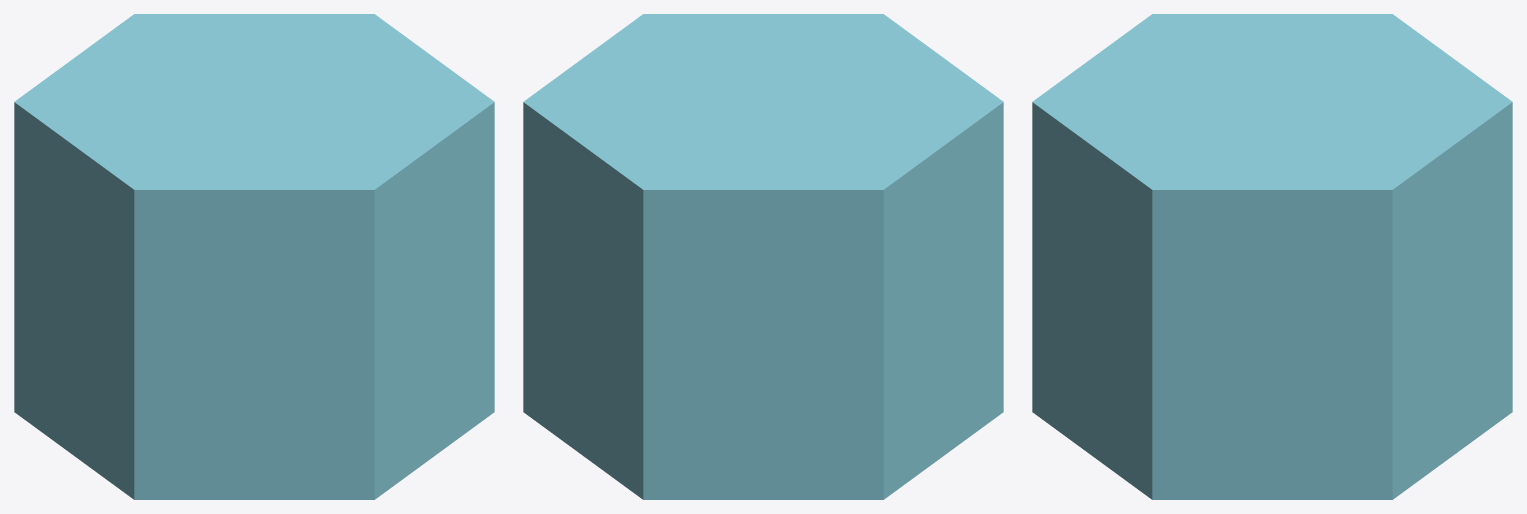
File: Hex_tall.fbx
The picture shows the model from 3 angles, left to right: view 1: azimuth 30°, elevation 25°; view 2: azimuth 150°, elevation 25°; view 3: azimuth 270°, elevation 25°; orthographic projection.
Parts seen in each view (by area): view 1: hex tall; view 2: hex tall; view 3: hex tall.
Part boxes in pixels (x1,y1,x2,y2): hex tall: [14, 14, 494, 499]; hex tall: [523, 14, 1003, 499]; hex tall: [1032, 14, 1512, 499].
Size of the model in its own units: 86.6 by 71.19 by 100.
